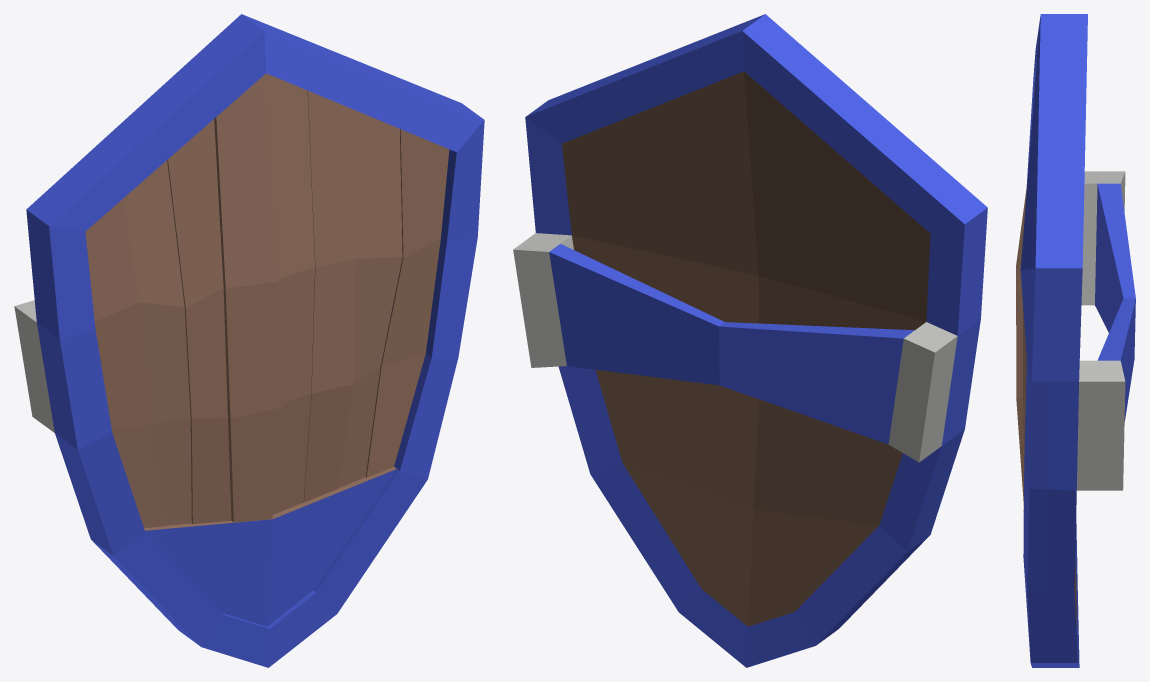
Rendered from shield-type-01.obj.
The picture shows the model from 3 angles, left to right: view 1: azimuth 30°, elevation 25°; view 2: azimuth 150°, elevation 25°; view 3: azimuth 270°, elevation 25°; orthographic projection. The views are drawn at different scales.
Parts seen in each view (by area): view 1: shield-type-01; view 2: shield-type-01; view 3: shield-type-01.
Part boxes in pixels (bbox=[...]): shield-type-01: bbox=[14, 14, 484, 667]; shield-type-01: bbox=[513, 14, 987, 667]; shield-type-01: bbox=[1016, 14, 1135, 667].
Size of the model in its own units: 0.4943 by 0.6877 by 0.1143.
